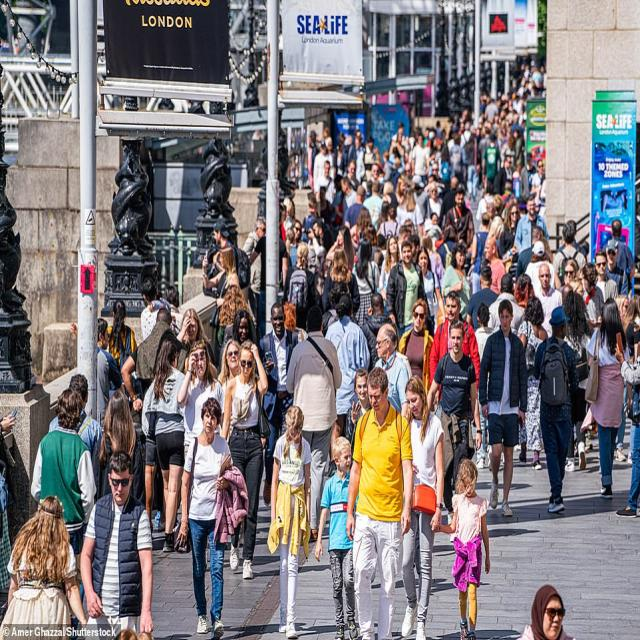Walking: (25, 389, 96, 625), (79, 449, 152, 640), (266, 396, 319, 630), (182, 395, 233, 638), (223, 341, 270, 587), (294, 309, 341, 549), (405, 375, 447, 636), (478, 300, 528, 513), (430, 316, 482, 518), (432, 459, 491, 637), (142, 336, 189, 555), (262, 302, 306, 522), (534, 306, 578, 511), (319, 435, 359, 640), (586, 302, 628, 496), (328, 293, 371, 441), (93, 390, 141, 518), (560, 287, 593, 471), (178, 342, 223, 468), (517, 294, 549, 471), (471, 284, 500, 464), (52, 372, 104, 472), (132, 303, 182, 402), (616, 321, 640, 511), (1, 409, 20, 617), (211, 270, 252, 361), (105, 303, 139, 409), (513, 585, 578, 640), (379, 316, 416, 411), (246, 211, 275, 328), (390, 243, 425, 338), (400, 299, 435, 392), (322, 249, 357, 326), (216, 338, 247, 422), (528, 258, 563, 332), (361, 287, 394, 364), (179, 310, 217, 375), (350, 245, 379, 329), (347, 368, 372, 456), (440, 246, 470, 319), (415, 247, 441, 331), (137, 274, 172, 336), (512, 200, 550, 257), (552, 220, 586, 282), (442, 188, 475, 251), (466, 265, 498, 328), (606, 224, 636, 291), (492, 276, 523, 336), (479, 238, 507, 297), (378, 237, 401, 302), (593, 254, 619, 310), (470, 213, 492, 278), (300, 192, 326, 245), (313, 184, 337, 235), (499, 204, 522, 256), (422, 181, 445, 232), (376, 198, 400, 246), (363, 178, 385, 230), (285, 300, 310, 344), (313, 142, 332, 198), (339, 133, 360, 181), (482, 137, 500, 190), (279, 198, 298, 244)
human: (354, 208, 377, 256), (622, 295, 640, 348), (560, 257, 582, 299), (164, 283, 179, 308)
loitering: (346, 366, 410, 640), (499, 152, 517, 196)
